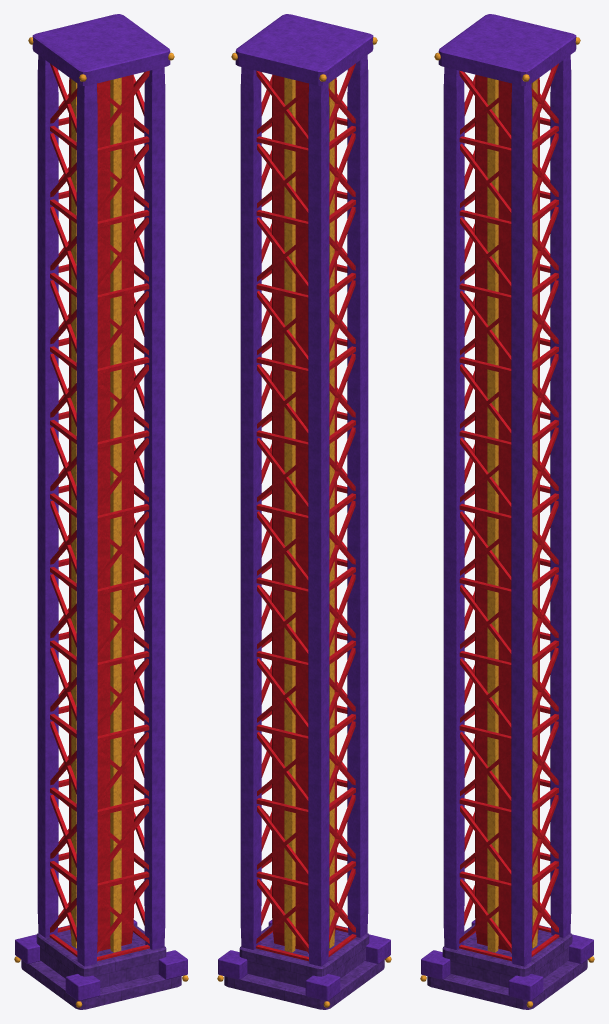
File: GD_Tower.fbx
The picture shows the model from 3 angles, left to right: view 1: azimuth 30°, elevation 25°; view 2: azimuth 150°, elevation 25°; view 3: azimuth 330°, elevation 25°; orthographic projection.
Visible parts, largest first — view 1: GD_Tower; view 2: GD_Tower; view 3: GD_Tower.
Boxes of the visible parts, x1,y1,x2,y2 form: GD_Tower: (14, 14, 188, 1009); GD_Tower: (217, 14, 391, 1009); GD_Tower: (420, 14, 594, 1009).
Bounding box in the file's own units: 4.48 × 35.6 × 4.48.
